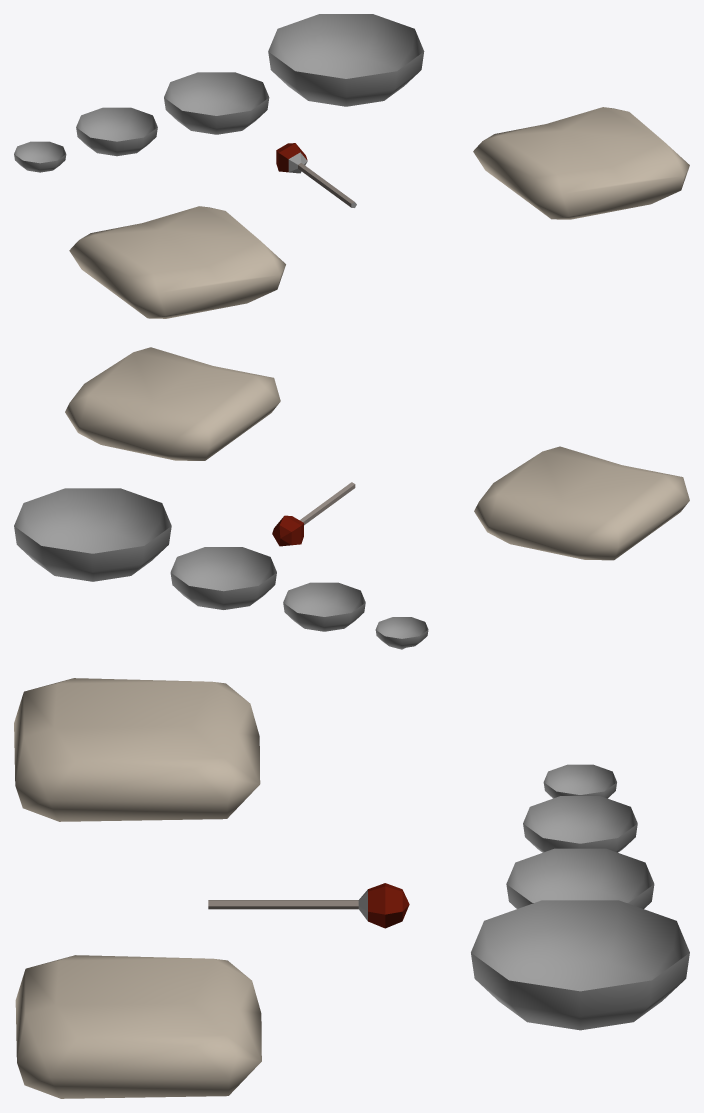
File: dzen.glb
3 renders of one model, top to bottom at view 1: azimuth 30°, elevation 25°; view 2: azimuth 150°, elevation 25°; view 3: azimuth 270°, elevation 25°, orthographic. The views are drawn at different scales.
Visible parts, largest first — view 1: DET_PL_1; view 2: DET_PL_1; view 3: DET_PL_1.
Boxes of the visible parts, x1=… form: DET_PL_1: x1=14, y1=14, x2=689, y2=318; DET_PL_1: x1=14, y1=347, x2=689, y2=649; DET_PL_1: x1=14, y1=678, x2=689, y2=1098.
Size of the model in its own units: 3.35 by 0.2925 by 2.5.
Materials: 2 (1 with a texture image).
